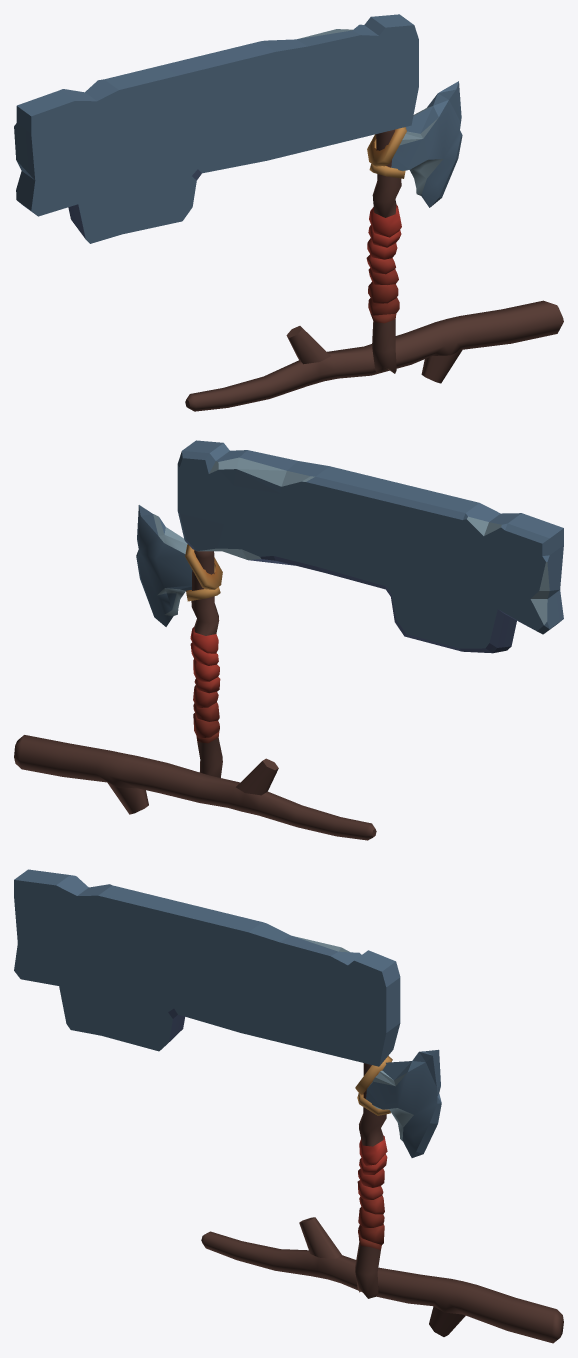
File: firerate_t1_a1.fbx
The picture shows the model from 3 angles, top to bottom: view 1: azimuth 30°, elevation 25°; view 2: azimuth 150°, elevation 25°; view 3: azimuth 330°, elevation 25°; orthographic projection. The views are drawn at different scales.
Visible parts, largest first — view 1: broad_t1_a1, firerate_t1_a1_m_lock, firerate_t1_a1_m; view 2: broad_t1_a1, firerate_t1_a1_m_lock, firerate_t1_a1_m; view 3: broad_t1_a1, firerate_t1_a1_m_lock, firerate_t1_a1_m.
Part boxes in pixels (x1=…): broad_t1_a1: x1=14, y1=14, x2=418, y2=243; firerate_t1_a1_m_lock: x1=185, y1=300, x2=563, y2=411; firerate_t1_a1_m: x1=366, y1=81, x2=462, y2=373; broad_t1_a1: x1=177, y1=440, x2=563, y2=653; firerate_t1_a1_m_lock: x1=14, y1=735, x2=376, y2=840; firerate_t1_a1_m: x1=136, y1=505, x2=222, y2=777; broad_t1_a1: x1=14, y1=869, x2=400, y2=1066; firerate_t1_a1_m_lock: x1=201, y1=1217, x2=563, y2=1343; firerate_t1_a1_m: x1=355, y1=1049, x2=441, y2=1298.
Size of the model in its own units: 8.09 by 5.5 by 0.7834.
